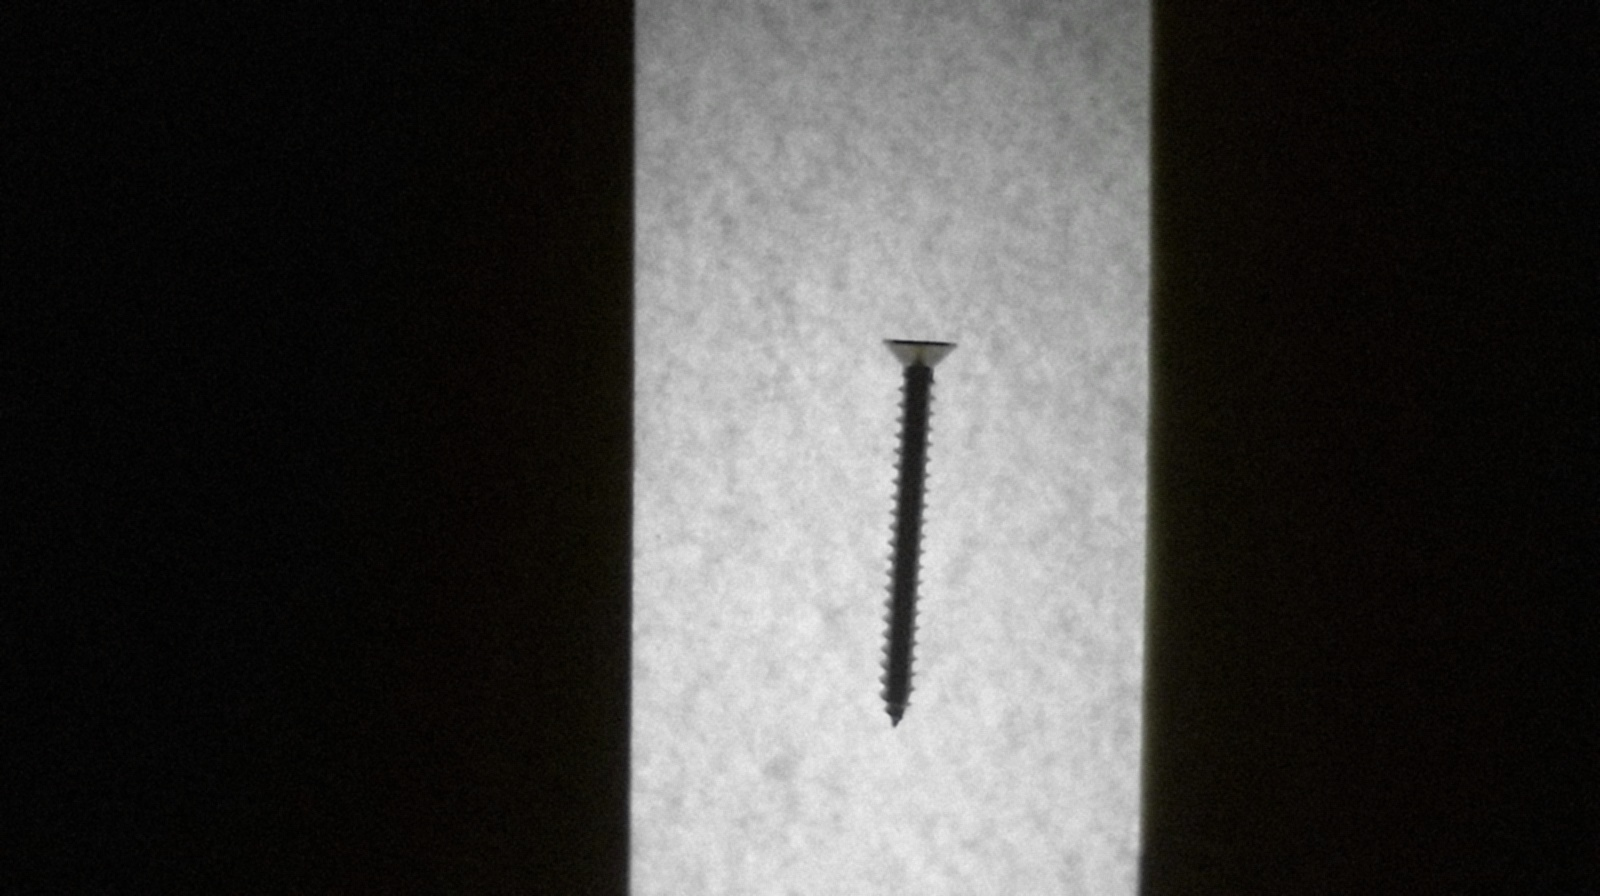S002: (836, 320, 993, 727)
